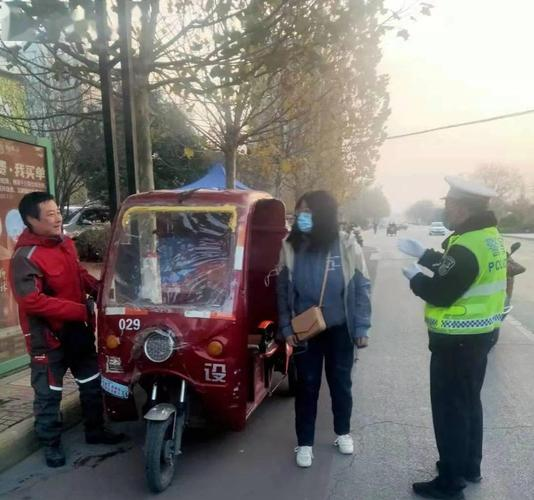empty: (74, 159, 345, 482)
